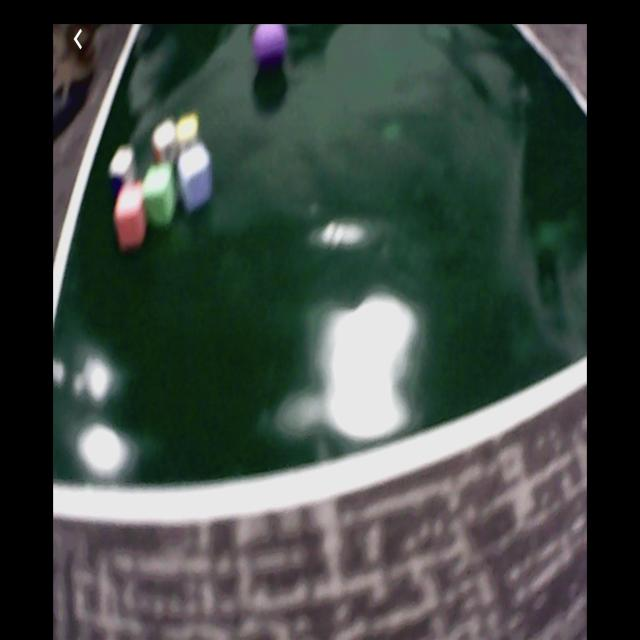ball: (253, 25, 289, 72)
